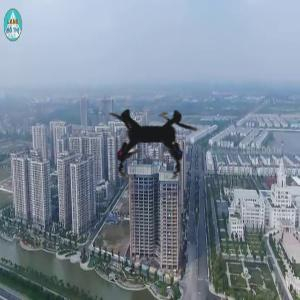drone: (75, 58, 236, 219)
